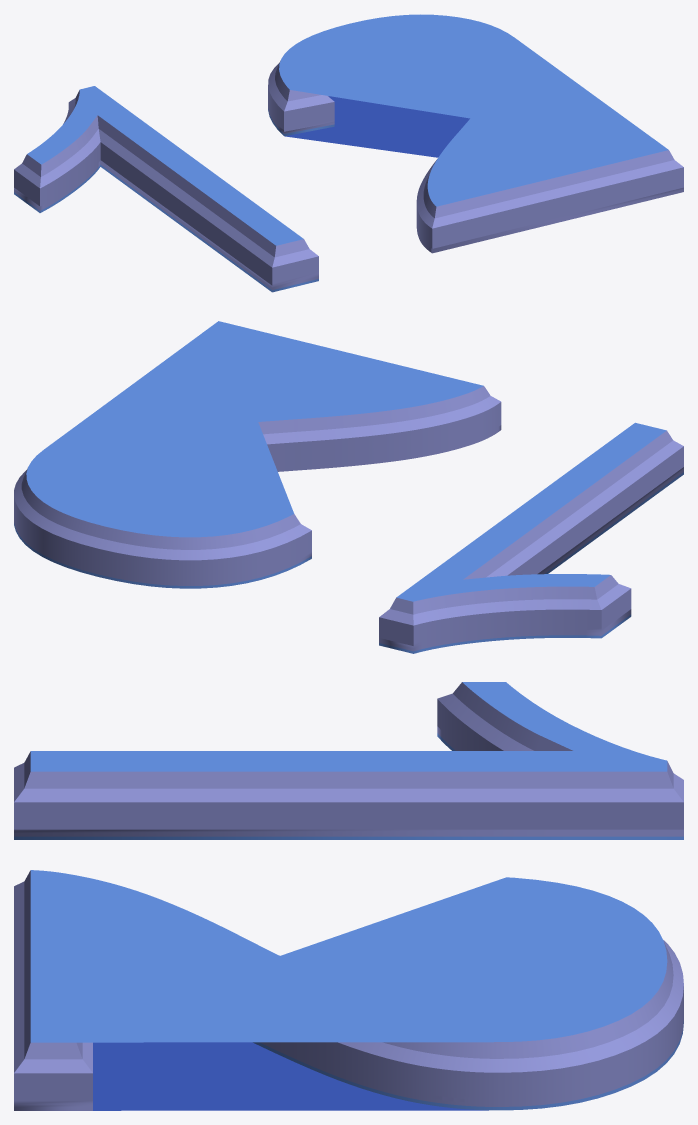
3 renders of one model, top to bottom at view 1: azimuth 30°, elevation 25°; view 2: azimuth 150°, elevation 25°; view 3: azimuth 270°, elevation 25°, orthographic. The views are drawn at different scales.
Parts seen in each view (by area): view 1: Text001; view 2: Text001; view 3: Text001.
Part boxes in pixels (box(x1,y1,x2,y2)): Text001: box(14, 14, 683, 292); Text001: box(14, 321, 683, 653); Text001: box(14, 682, 683, 1110).
Bounding box in the file's own units: 85.2 × 6.5 × 64.4.
